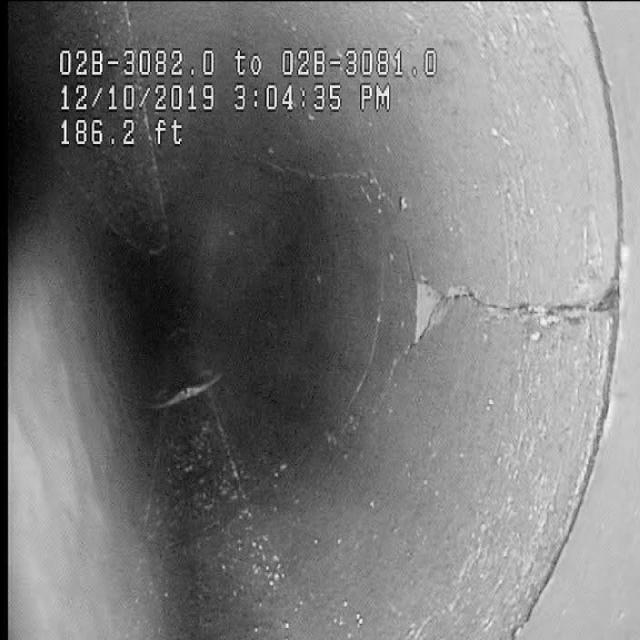Crack: (371, 188, 618, 400)
